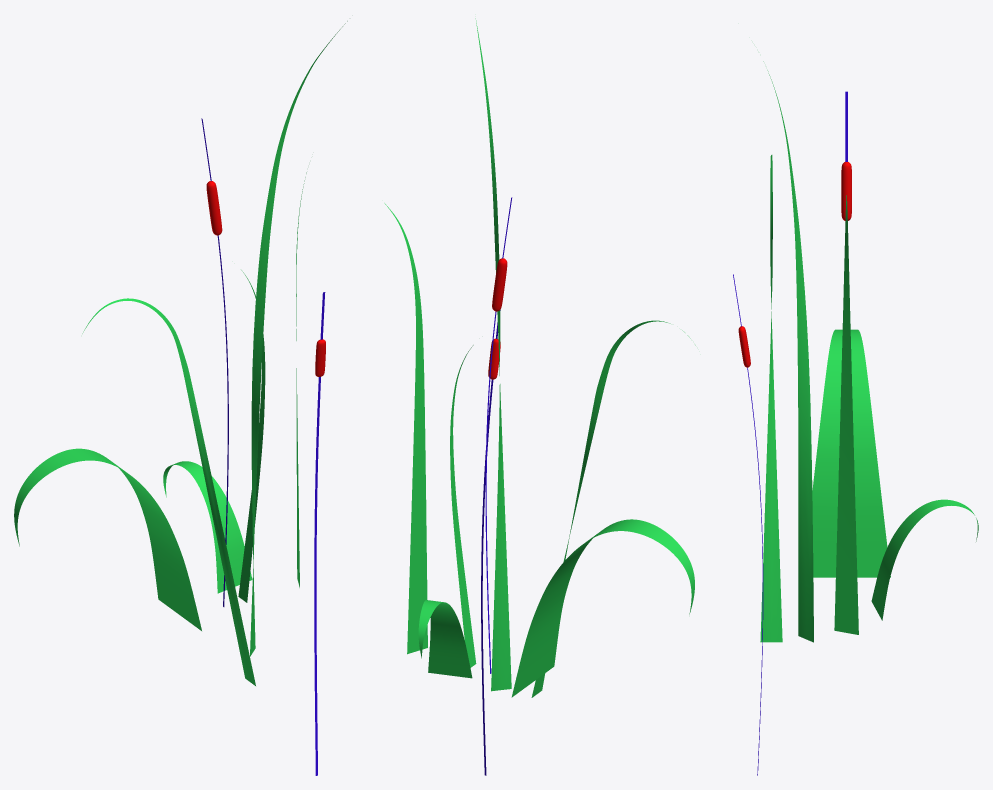
The model's file is Reeds.obj.
3 renders of one model, left to right at view 1: azimuth 30°, elevation 25°; view 2: azimuth 150°, elevation 25°; view 3: azimuth 270°, elevation 25°, orthographic. The views are drawn at different scales.
Visible parts, largest first — view 1: sweep2_sweep2, sweep6_sweep6, sweep5_sweep5, sweep7_sweep7, sweep4_sweep4, sweep8_sweep8, sweep1_sweep1, sweep3_sweep3, Reed_Bud_Reed_Bud; view 2: sweep2_sweep2, sweep3_sweep3, sweep6_sweep6, sweep7_sweep7, sweep4_sweep4, sweep5_sweep5, sweep8_sweep8, sweep1_sweep1, Reed_Bud_Reed_Bud; view 3: sweep2_sweep2, sweep3_sweep3, sweep6_sweep6, sweep5_sweep5, sweep7_sweep7, sweep8_sweep8, Reed_Bud_Reed_Bud.
Boxes of the visible parts, left/top/right/bottom form: sweep2_sweep2: left=14, top=448, right=201, bottom=630; sweep6_sweep6: left=250, top=21, right=347, bottom=656; sweep5_sweep5: left=82, top=298, right=255, bottom=685; sweep7_sweep7: left=163, top=461, right=252, bottom=593; sweep4_sweep4: left=238, top=270, right=265, bottom=602; sweep8_sweep8: left=314, top=292, right=325, bottom=775; sweep1_sweep1: left=201, top=118, right=228, bottom=606; sweep3_sweep3: left=296, top=172, right=306, bottom=587; Reed_Bud_Reed_Bud: left=206, top=181, right=222, bottom=235; sweep2_sweep2: left=511, top=519, right=694, bottom=697; sweep3_sweep3: left=384, top=203, right=427, bottom=654; sweep6_sweep6: left=475, top=18, right=511, bottom=691; sweep7_sweep7: left=418, top=600, right=472, bottom=678; sweep4_sweep4: left=450, top=345, right=476, bottom=667; sweep5_sweep5: left=531, top=320, right=695, bottom=697; sweep8_sweep8: left=481, top=310, right=500, bottom=775; sweep1_sweep1: left=485, top=197, right=512, bottom=673; Reed_Bud_Reed_Bud: left=492, top=258, right=507, bottom=311; sweep2_sweep2: left=812, top=329, right=890, bottom=577; sweep3_sweep3: left=834, top=195, right=858, bottom=634; sweep6_sweep6: left=763, top=61, right=813, bottom=642; sweep5_sweep5: left=760, top=155, right=782, bottom=642; sweep7_sweep7: left=871, top=499, right=978, bottom=620; sweep8_sweep8: left=733, top=274, right=763, bottom=775; Reed_Bud_Reed_Bud: left=841, top=162, right=851, bottom=220.
Bounding box in the file's own units: 8.39 × 19.24 × 5.58.
